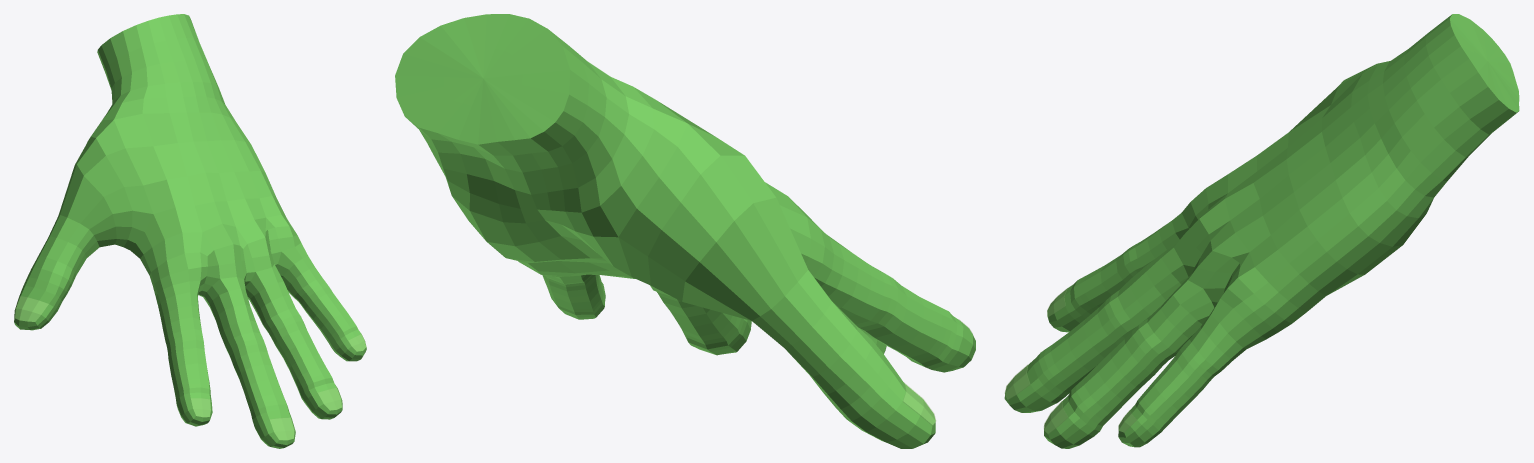
Rendered from InteractiveModel.glb.
3 views of the same model, side by side, from view 1: azimuth 30°, elevation 25°; view 2: azimuth 150°, elevation 25°; view 3: azimuth 270°, elevation 25° (orthographic). The views are drawn at different scales.
Visible parts, largest first — view 1: hand; view 2: hand; view 3: hand.
Part boxes in pixels (left/top/right/bottom): hand: left=14, top=14, right=366, bottom=448; hand: left=395, top=14, right=975, bottom=448; hand: left=1004, top=14, right=1519, bottom=448.
Size of the model in its own units: 3.34 by 3.48 by 3.96.
